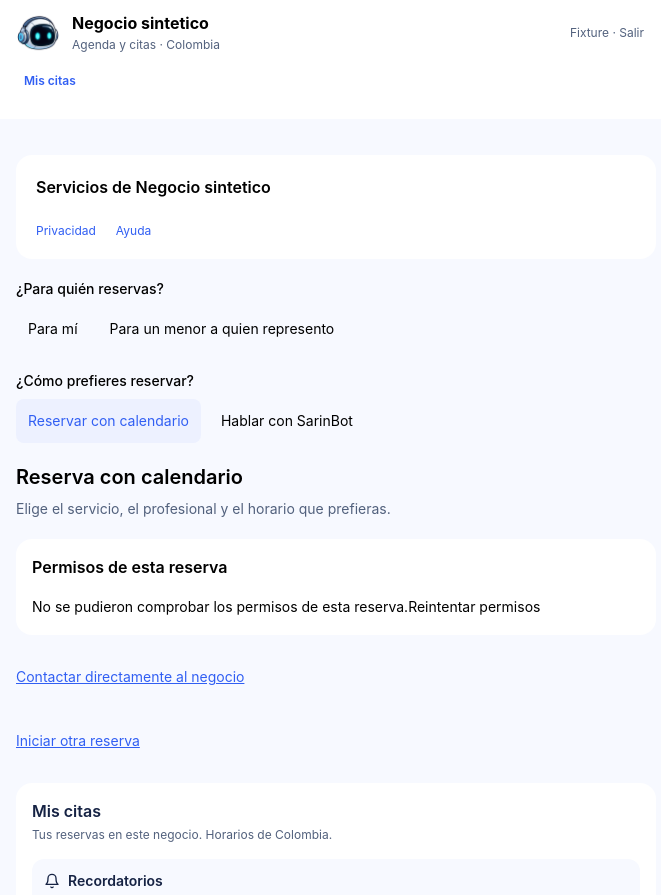
Scenario: chat pause surfaces › pauses new public messages after ten introductory appointments while preserving the confirmed appointment
What coordinates should you click on to do the following:
click the button "Hablar con SarinBot"
I would click on:
 (287, 421)
Its box is [209,399,365,443].
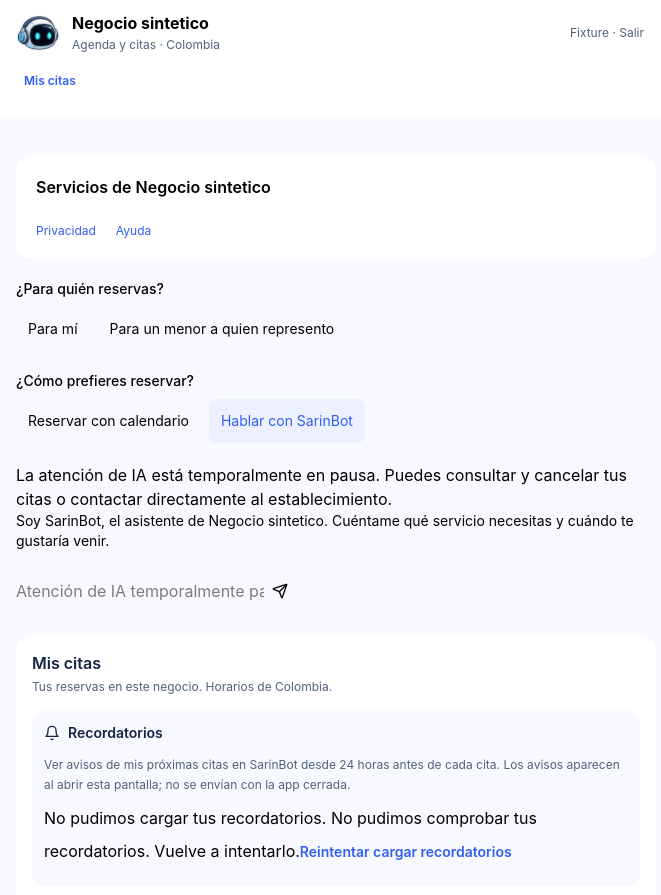
expect the field with placeholder "Atención de IA temporalmente pausada" is disabled: met, box [16,579,264,603]
